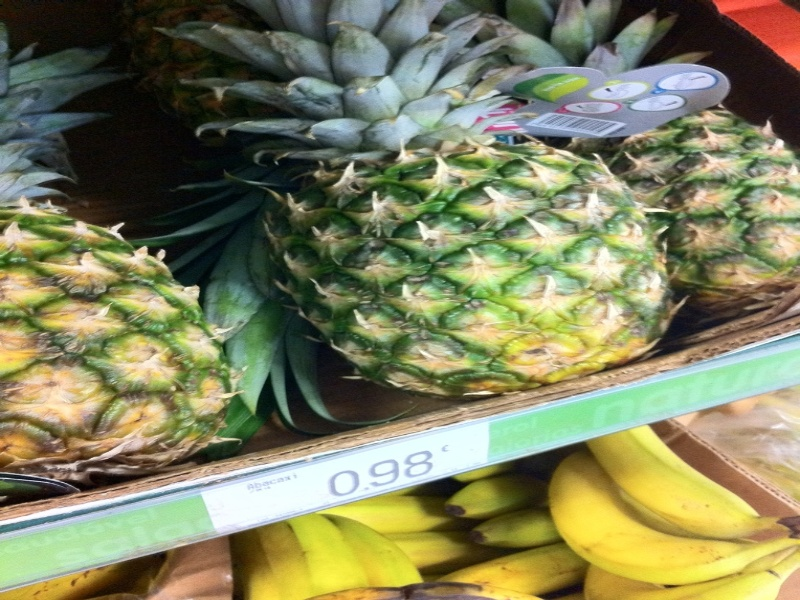banana: (544, 431, 800, 597), (433, 464, 538, 596), (225, 528, 424, 591)
pineapple: (212, 2, 660, 414), (2, 1, 229, 471), (538, 5, 800, 305)
